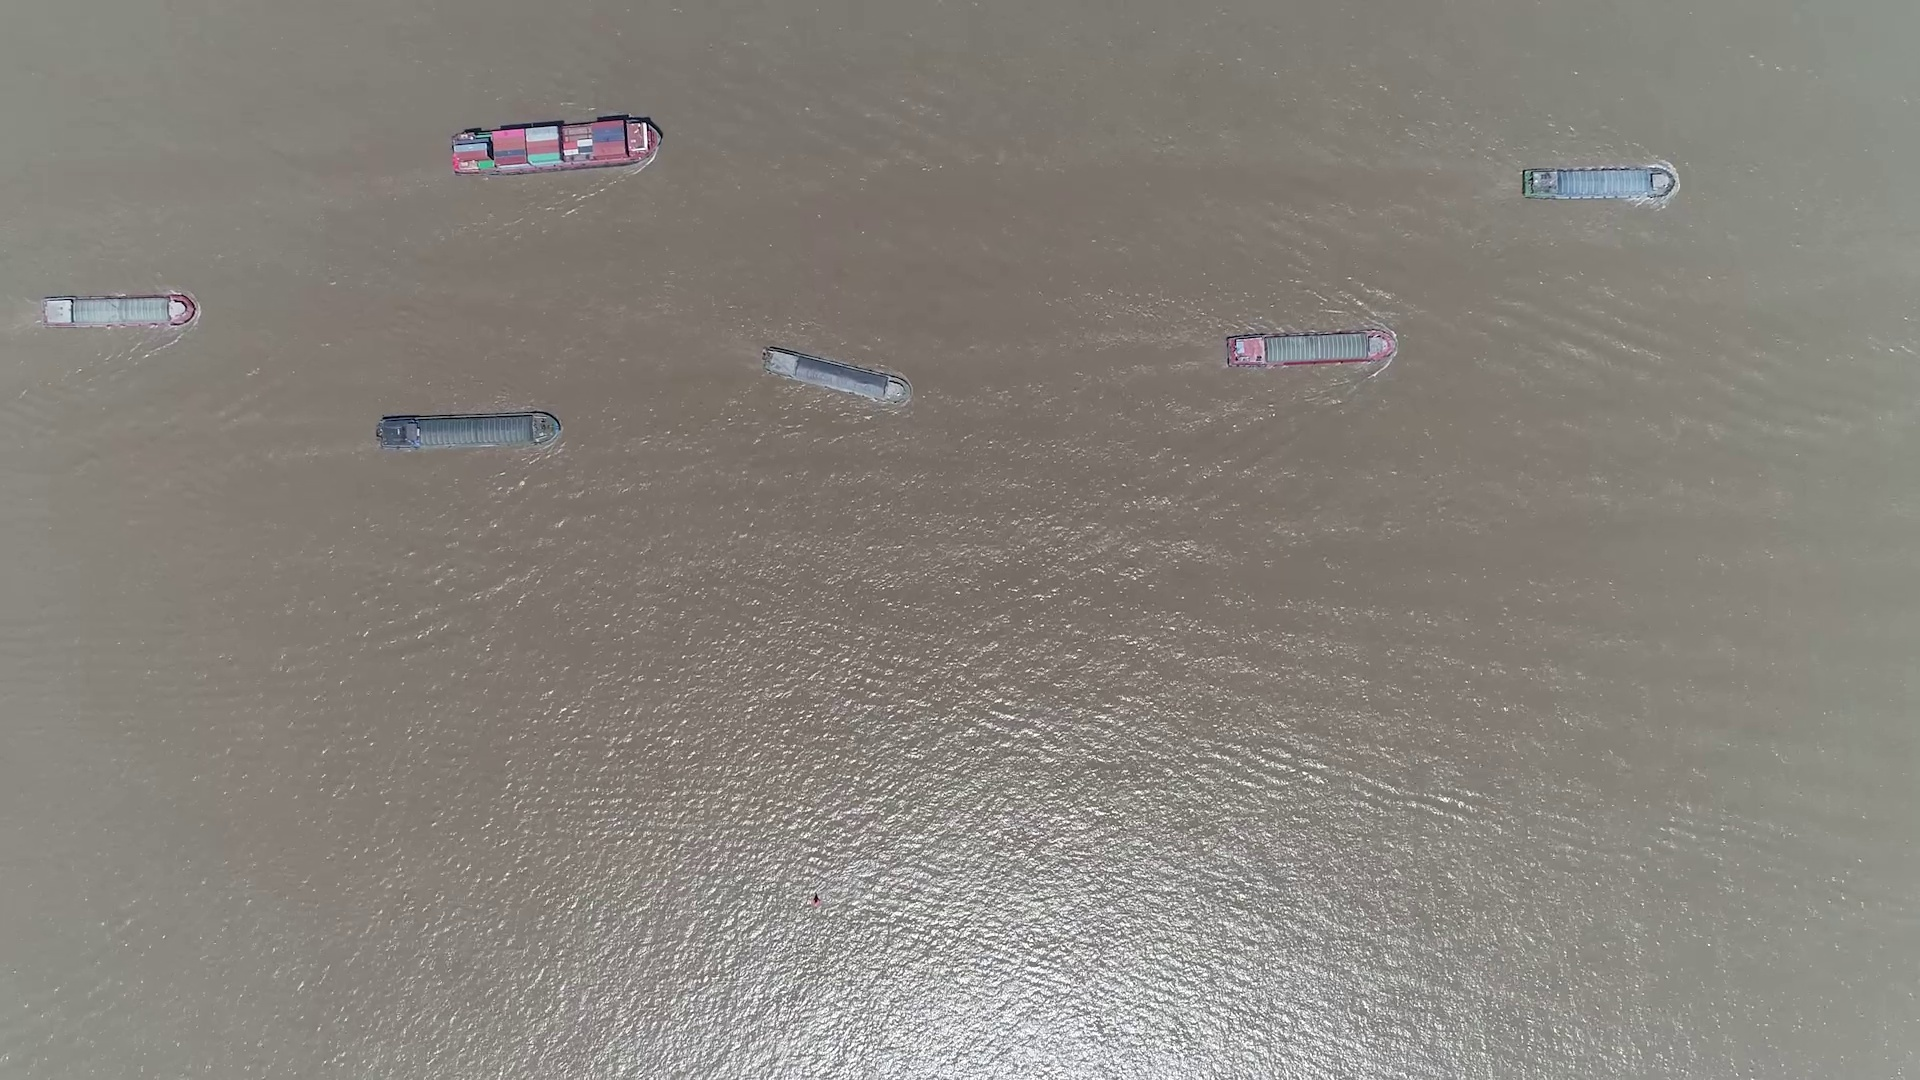ship: (448, 119, 657, 174), (761, 347, 909, 404), (375, 413, 556, 452), (1225, 330, 1396, 367), (40, 295, 195, 327), (1524, 167, 1671, 199)
